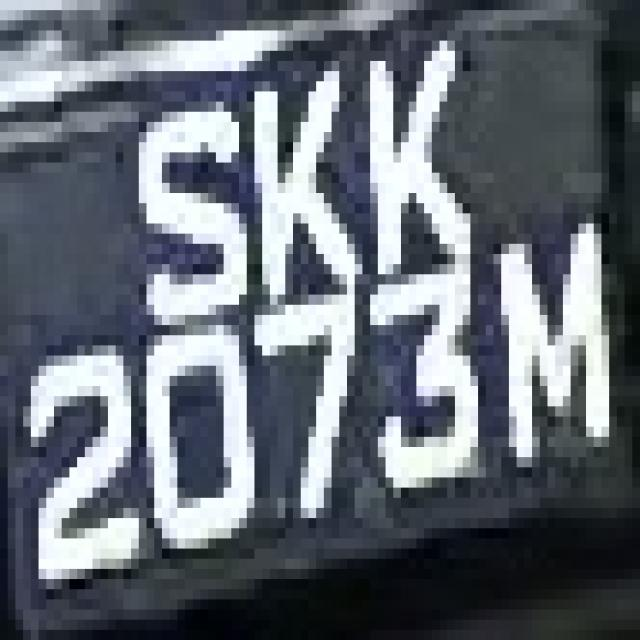0: (146, 304, 255, 548)
2: (21, 340, 141, 590)
3: (347, 274, 478, 488)
7: (231, 284, 370, 548)
K: (347, 51, 470, 305), (239, 61, 362, 295)
M: (494, 233, 609, 488)
S: (139, 71, 231, 346)
